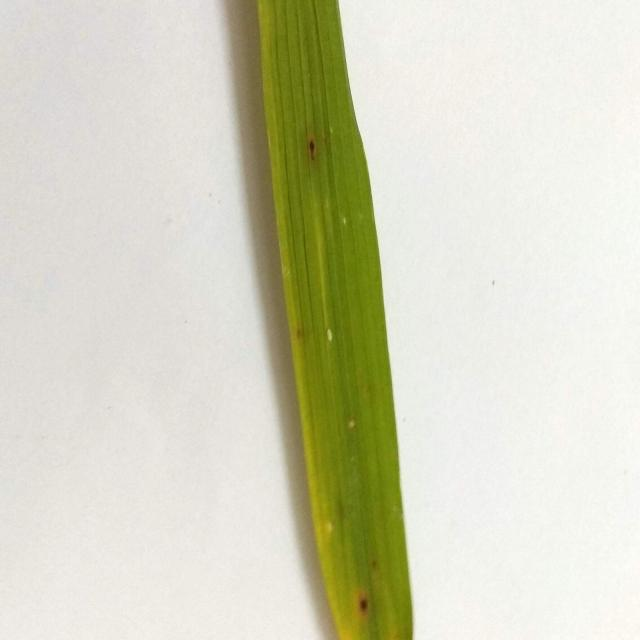Brown spot: (296, 126, 332, 164), (358, 549, 388, 577), (354, 591, 376, 619), (296, 323, 312, 345)
